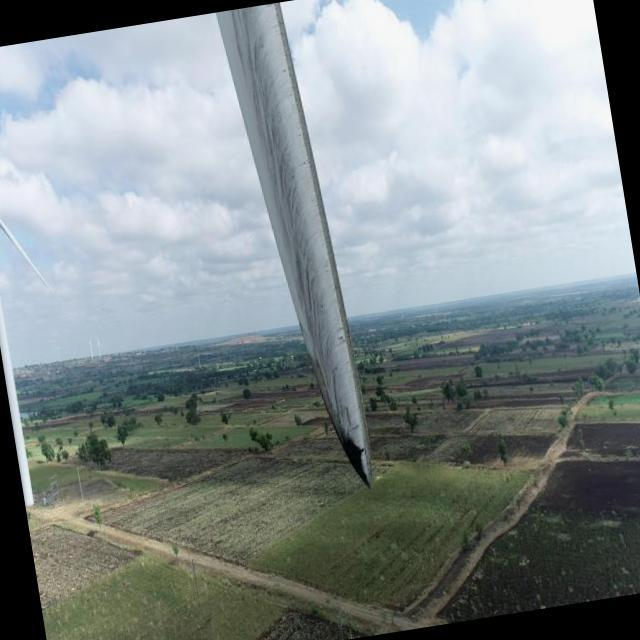Dirt: (214, 0, 375, 483)
Oil LEAKAGE: (335, 432, 372, 488)
Pin Hole: (352, 446, 370, 456)
